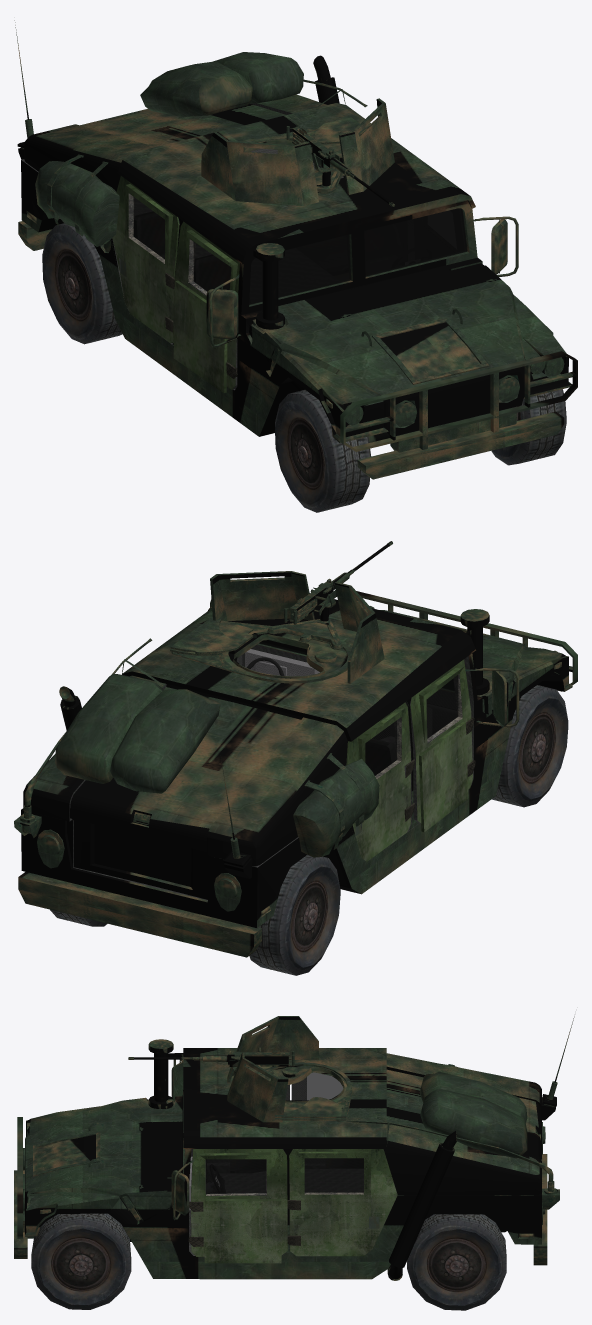
The model's file is MilitaryCar.FBX.
3 renders of one model, top to bottom at view 1: azimuth 30°, elevation 25°; view 2: azimuth 150°, elevation 25°; view 3: azimuth 270°, elevation 25°, orthographic. The views are drawn at different scales.
Visible parts, largest first — view 1: Body, Wheel_FR, Door_BR, Door_FR, Wheel_BR, Wheel_FL; view 2: Body, Door_FR, Wheel_BR, Door_BR, Wheel_FR; view 3: Body, Door_FL, Door_BL, Wheel_FL, Wheel_BL, Door_BR.
Part boxes in pixels (x1,y1,x2,y2): Body: (14, 20, 577, 479); Wheel_FR: (275, 390, 371, 512); Door_BR: (111, 176, 179, 343); Door_FR: (172, 221, 239, 393); Wheel_BR: (42, 223, 122, 344); Wheel_FL: (491, 389, 566, 465); Body: (14, 541, 577, 957); Door_FR: (410, 659, 475, 832); Wheel_BR: (249, 855, 340, 975); Door_BR: (346, 702, 414, 861); Wheel_FR: (491, 685, 568, 807); Body: (14, 1016, 574, 1280); Door_FL: (188, 1149, 287, 1263); Door_BL: (287, 1149, 397, 1256); Wheel_FL: (31, 1213, 131, 1309); Wheel_BL: (407, 1214, 506, 1310); Door_BR: (291, 1072, 343, 1163).
Size of the model in its own units: 77.61 by 64.52 by 151.
